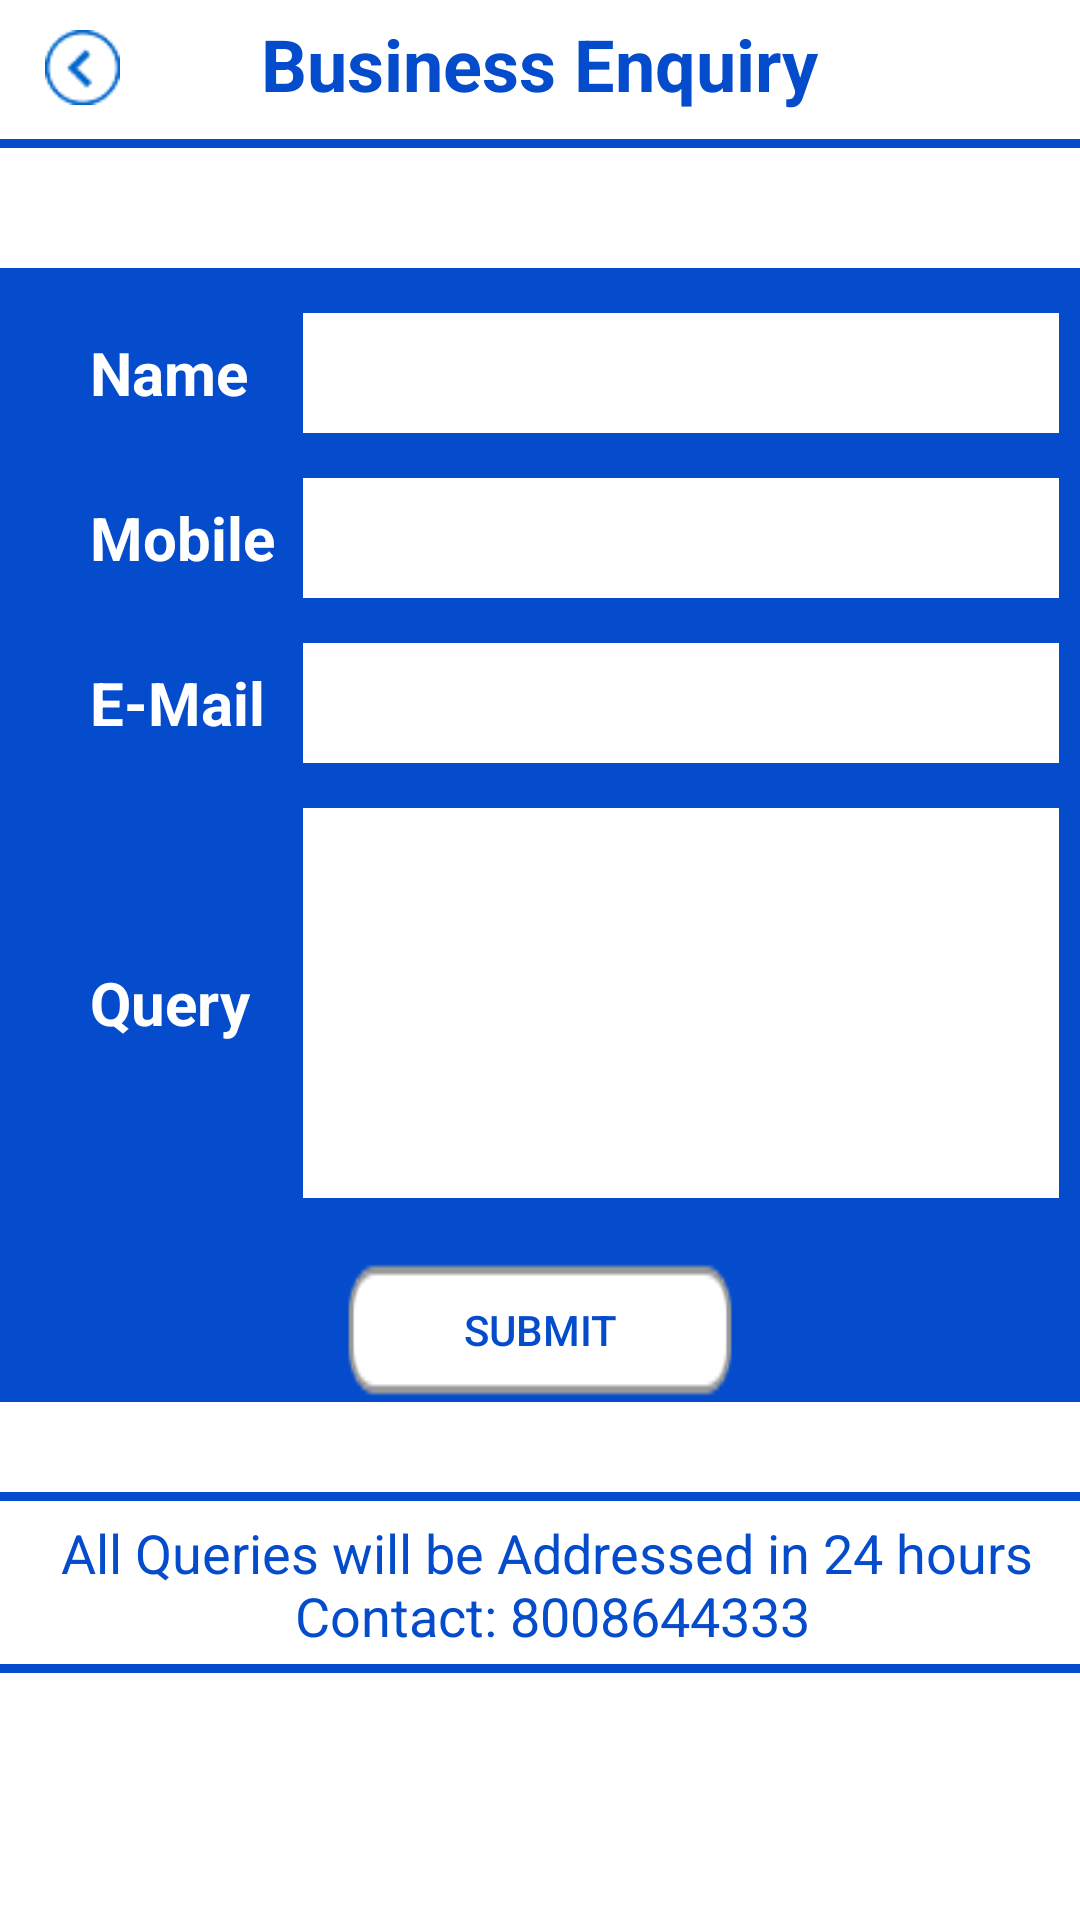

Named icons in this screenshot (1080px×1920px) and their bounding boxes, (x1, y1, x2, y2):
back enq: (45, 30, 120, 105)
